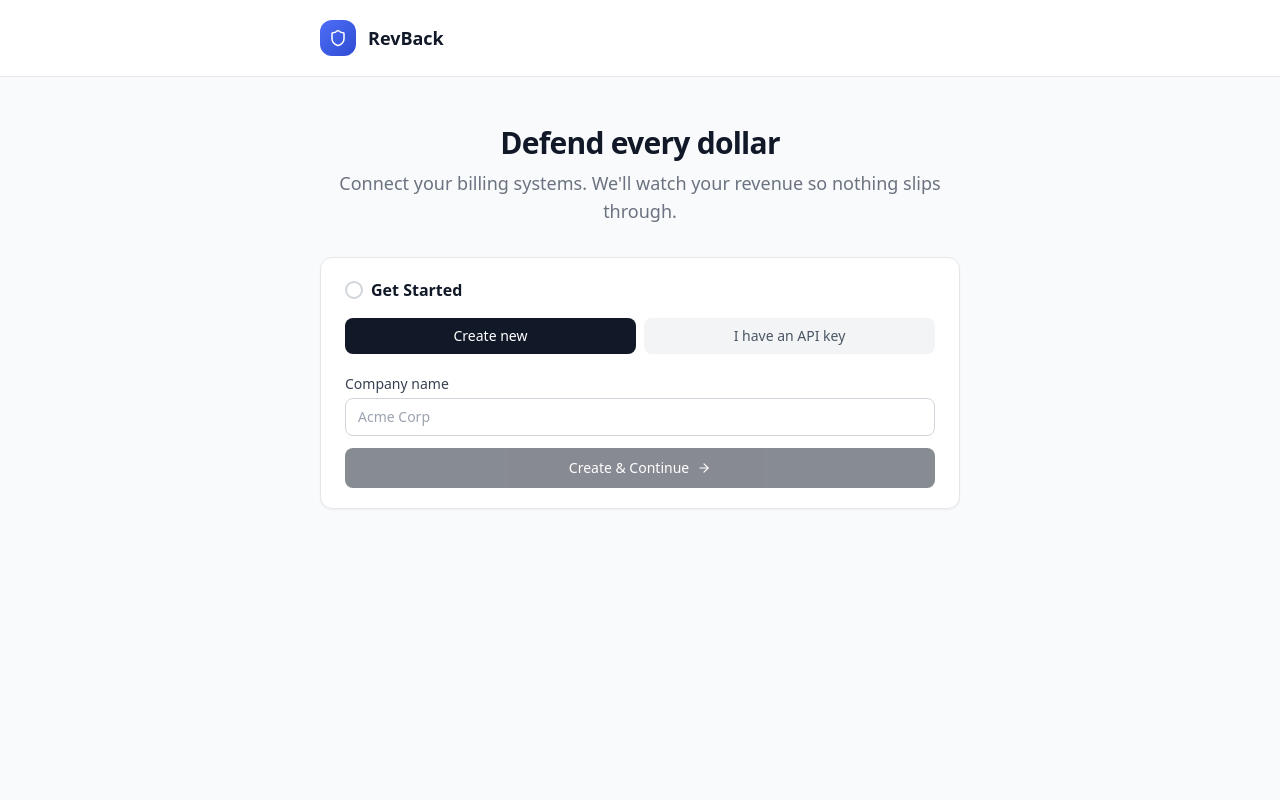
OnboardingPage › Section 1: Create org flow › shows error on org creation failure
The width and height of the screenshot is (1280, 800).
Step 1. Type "Existing Co" into the field with placeholder "Acme Corp" → (640, 417), box [345,398,935,436]
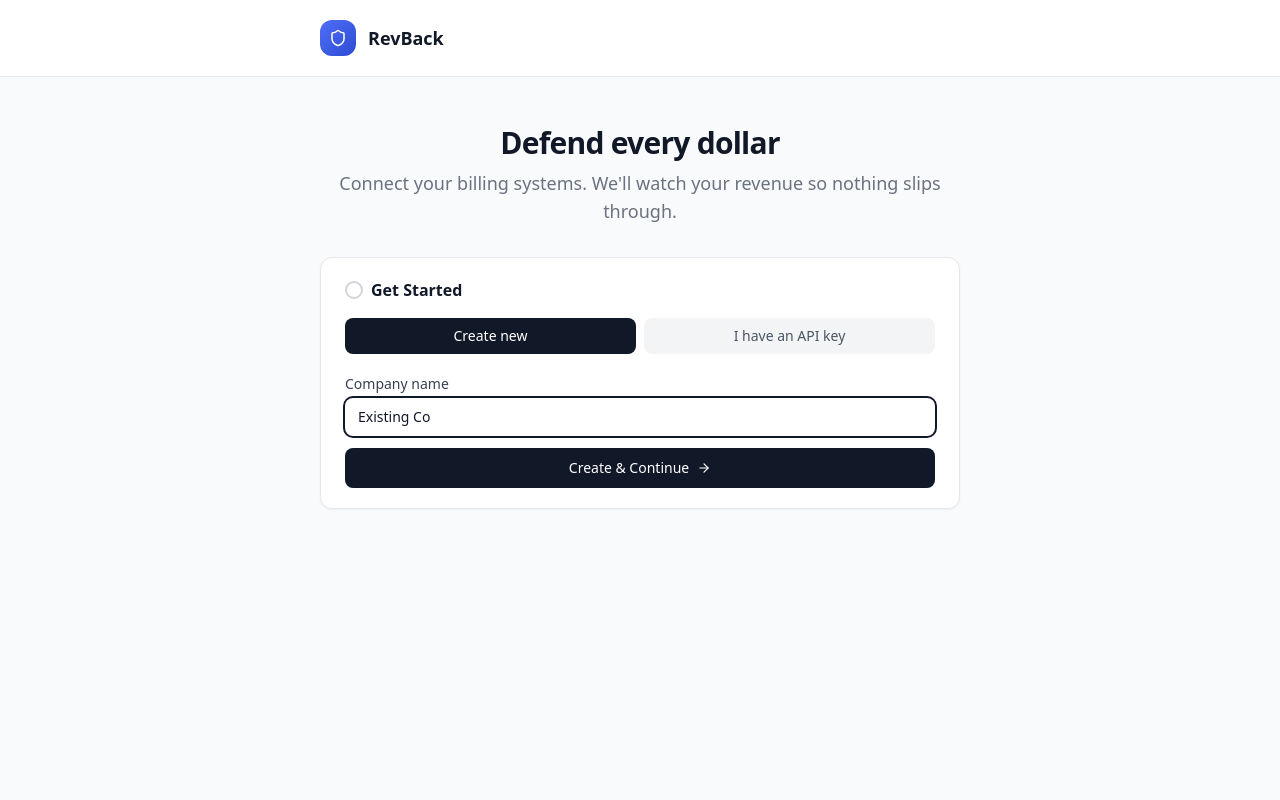
Step 2. Click the button "Create & Continue" → click(640, 468), box [345,448,935,488]
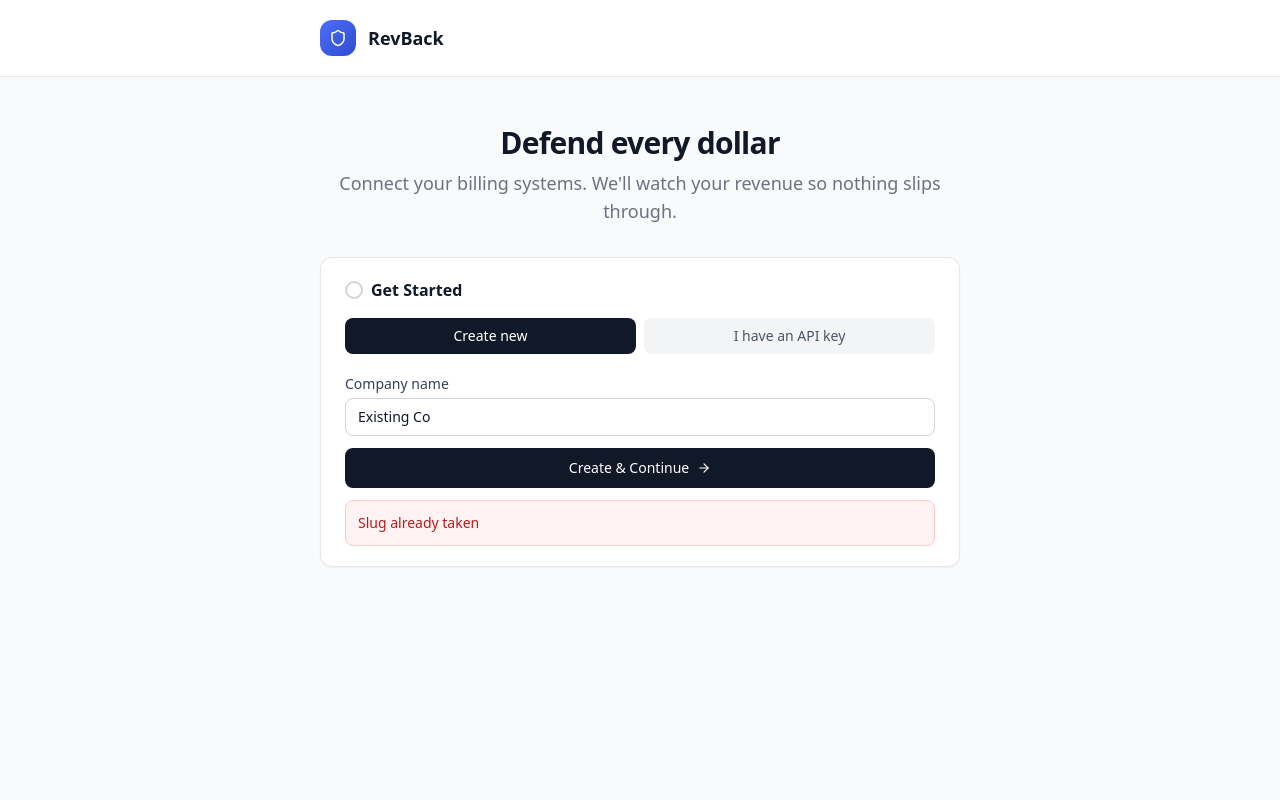
expect the text "Slug already taken" is shown: met, box [358,513,479,532]
